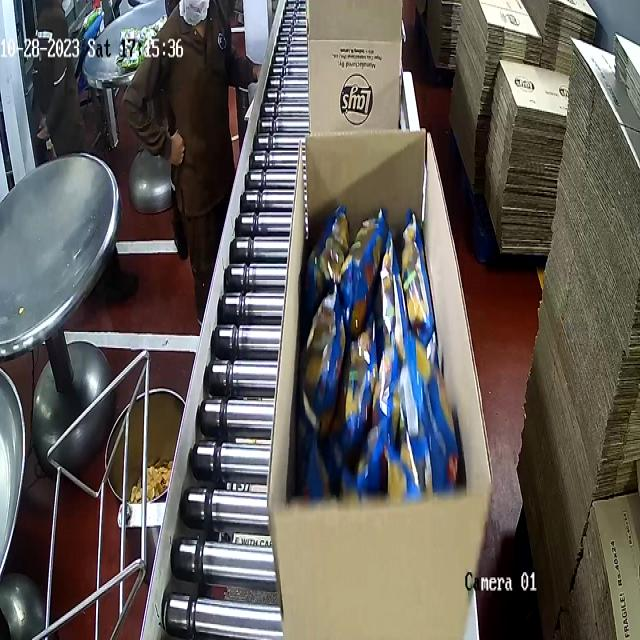PAPRIKA: (294, 200, 458, 500)
